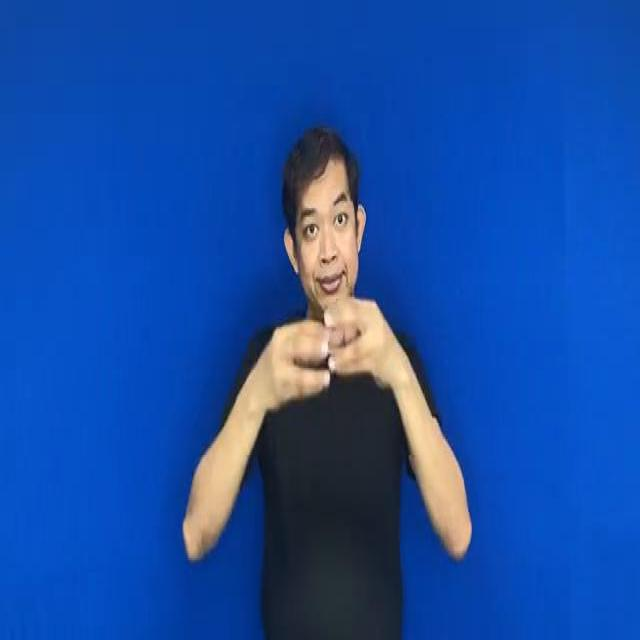egg: (253, 280, 403, 416)
